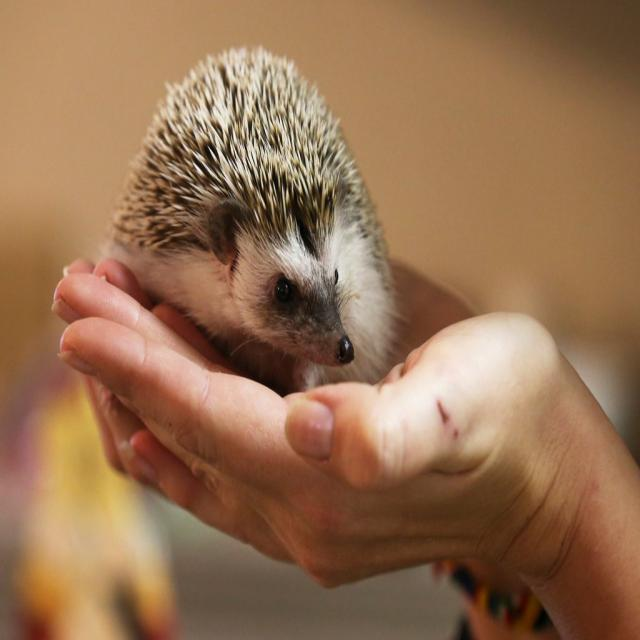Hedgehog: (113, 29, 410, 368)
